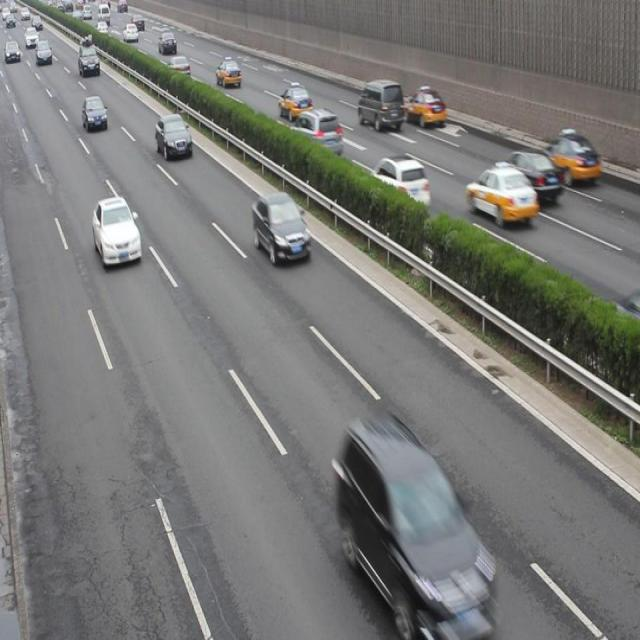car: (338, 413, 494, 628), (252, 190, 311, 266), (465, 165, 536, 227), (492, 150, 562, 206), (368, 152, 429, 214), (93, 195, 142, 268), (540, 134, 600, 186), (288, 107, 342, 154), (155, 112, 193, 161), (404, 87, 446, 128), (278, 84, 312, 120), (82, 94, 109, 132), (216, 59, 242, 87)
truck: (356, 77, 404, 134)
